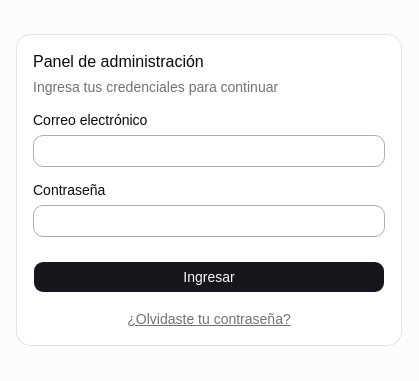
Scenario: admin Login page › shows an error message when login fails
The image size is (419, 381).
Type "admin@demo.local" into the field labelled "Correo electrónico" at (209, 151), box x1=33 y1=135 x2=385 y2=167
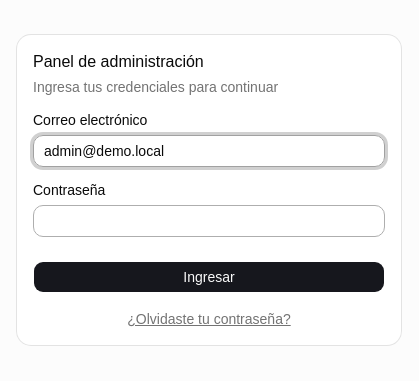
Type "wrong-password" into the password field labelled "Contraseña" at (209, 221), box x1=33 y1=205 x2=385 y2=237
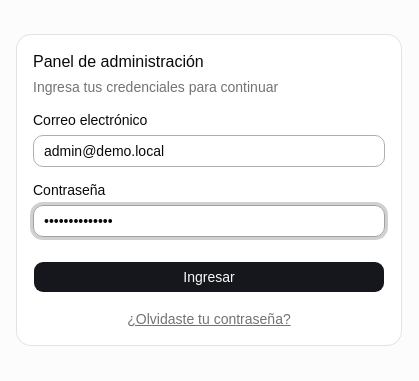
Click the button "Ingresar" at (209, 277), box x1=33 y1=261 x2=385 y2=293
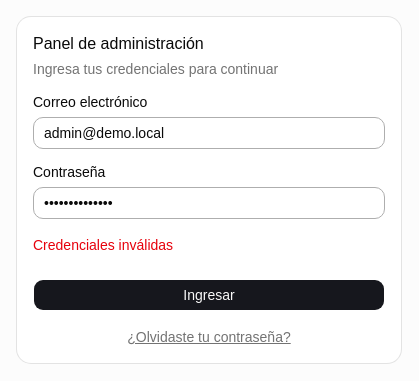
Result: the text "Credenciales inválidas" is shown at x1=33 y1=237 x2=173 y2=253
